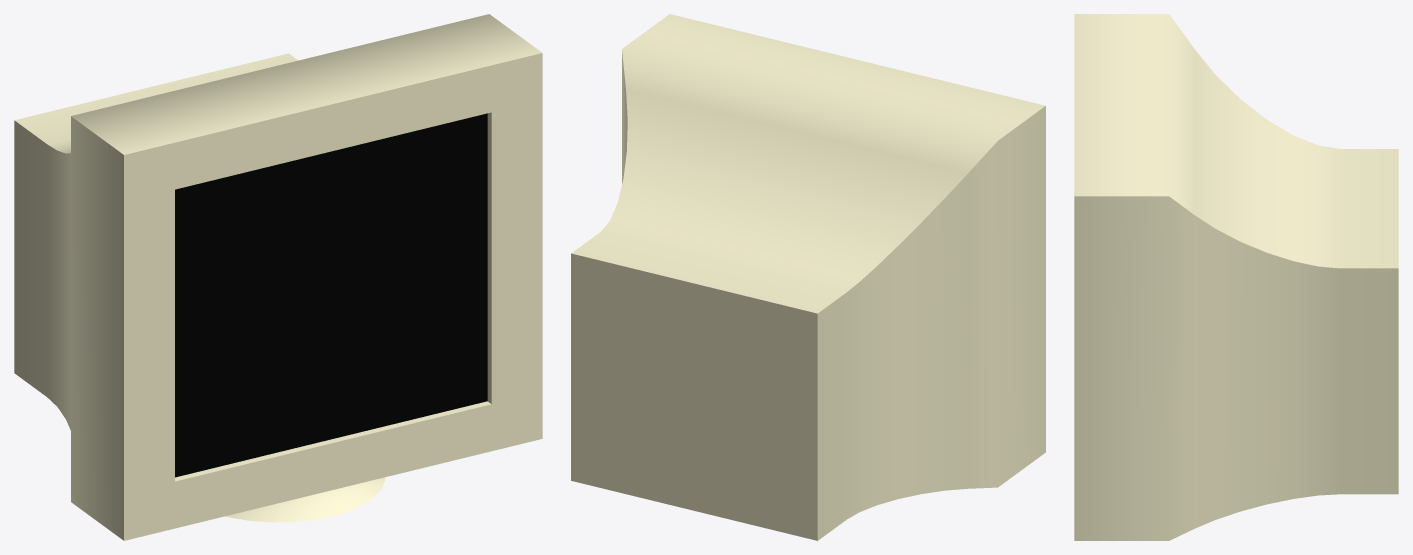
Rendered from crt.fbx.
3 views of the same model, side by side, from view 1: azimuth 30°, elevation 25°; view 2: azimuth 150°, elevation 25°; view 3: azimuth 270°, elevation 25° (orthographic). The views are drawn at different scales.
Parts seen in each view (by area): view 1: Cube.001; view 2: Cube.001; view 3: Cube.001.
Part boxes in pixels (x1=…): Cube.001: x1=14, y1=14, x2=542, y2=540; Cube.001: x1=571, y1=14, x2=1045, y2=540; Cube.001: x1=1074, y1=14, x2=1398, y2=540.
Size of the model in its own units: 227 by 214 by 171.
